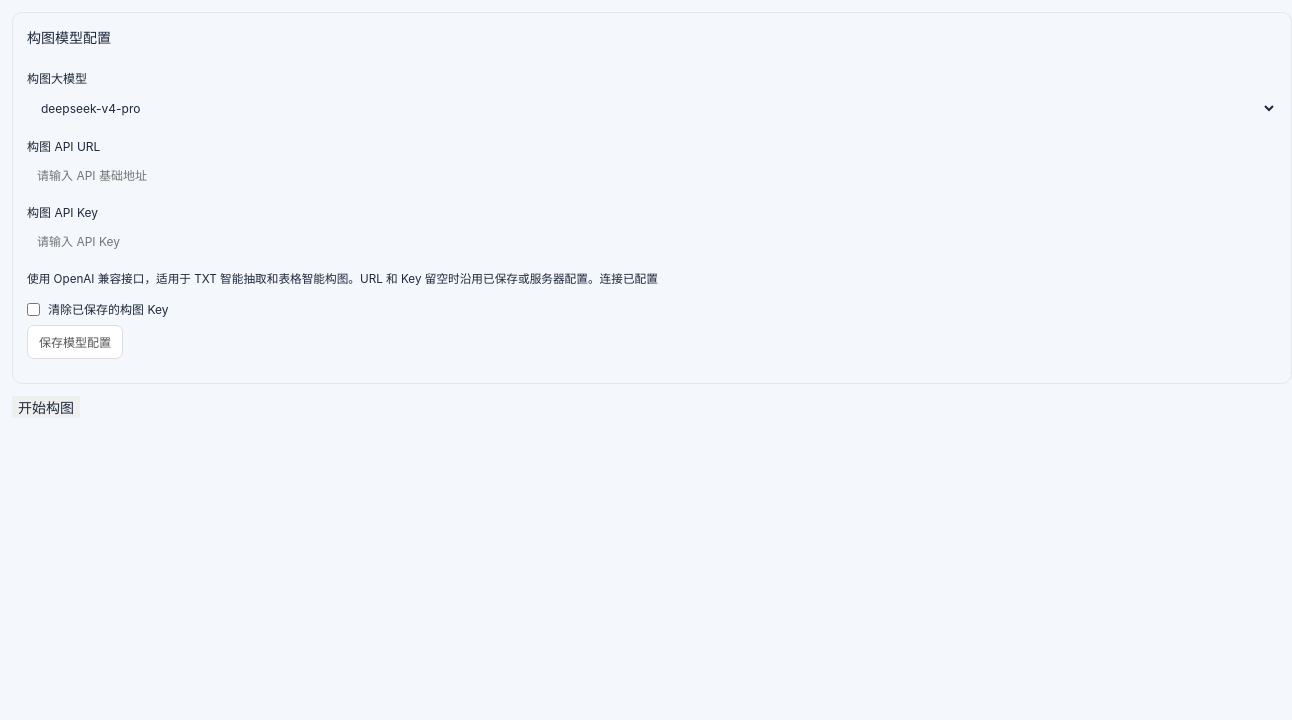
Test: saves a custom model and connection before enabling construction and resets secret fields
Check: the text "连接已配置" is shown, box [600,272,658,286]
Select "自定义模型…" in the dropdown labelled "构图大模型": (652, 108) [27,92,1277,125]
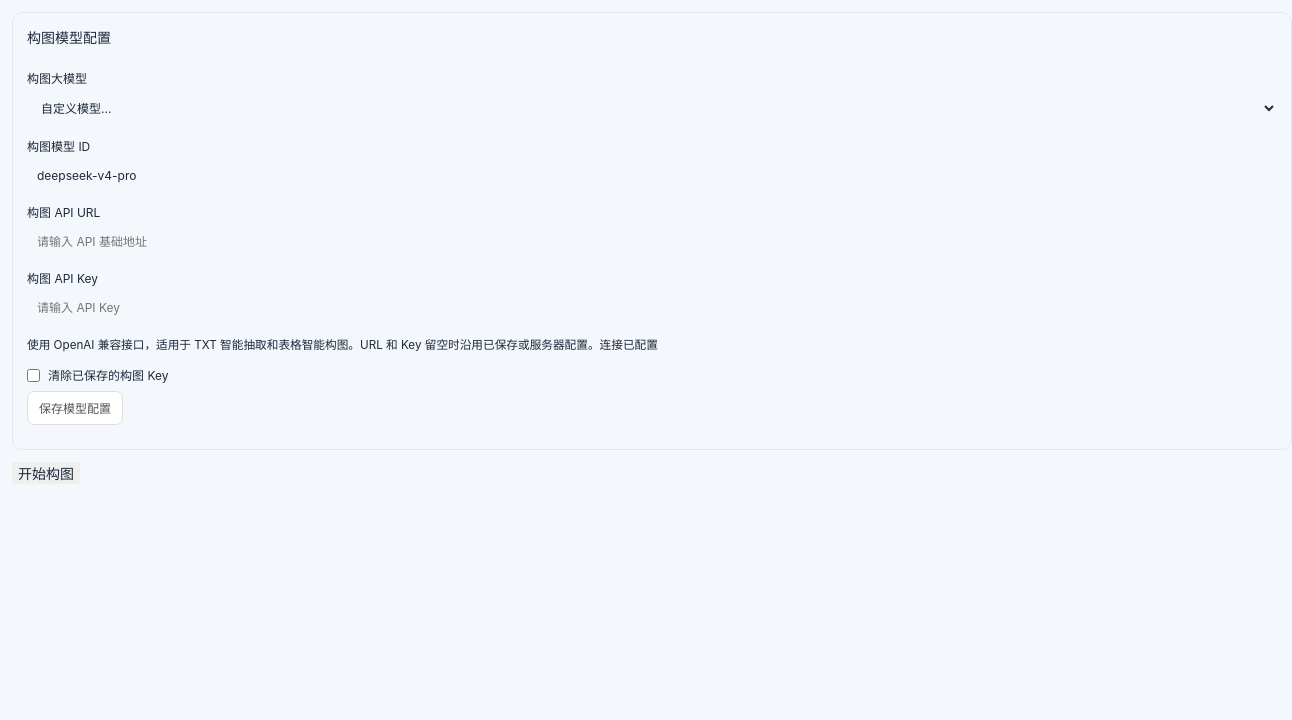
Replace the text in the field labelled "构图模型 ID" with "team/extractor": (652, 176) [27,160,1277,191]
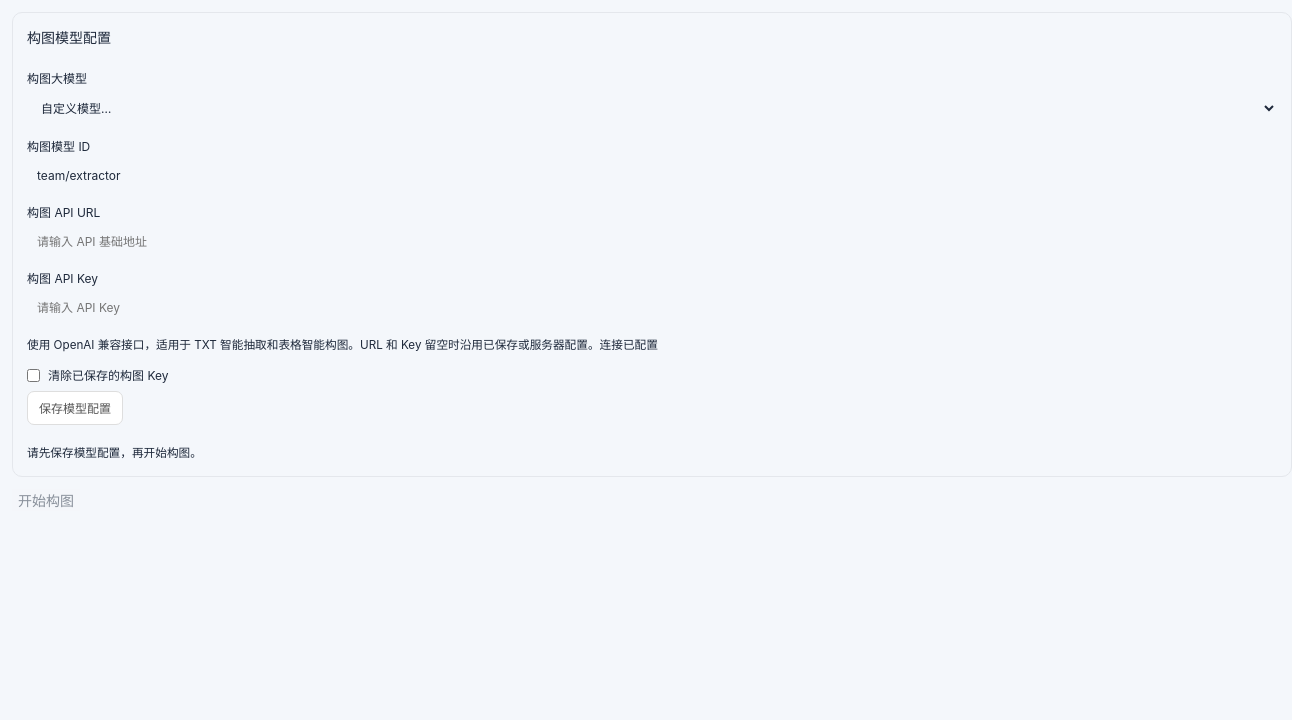
In the field labelled "构图 API URL": (652, 242) [27,226,1277,257], type "https://gateway.test/v1"
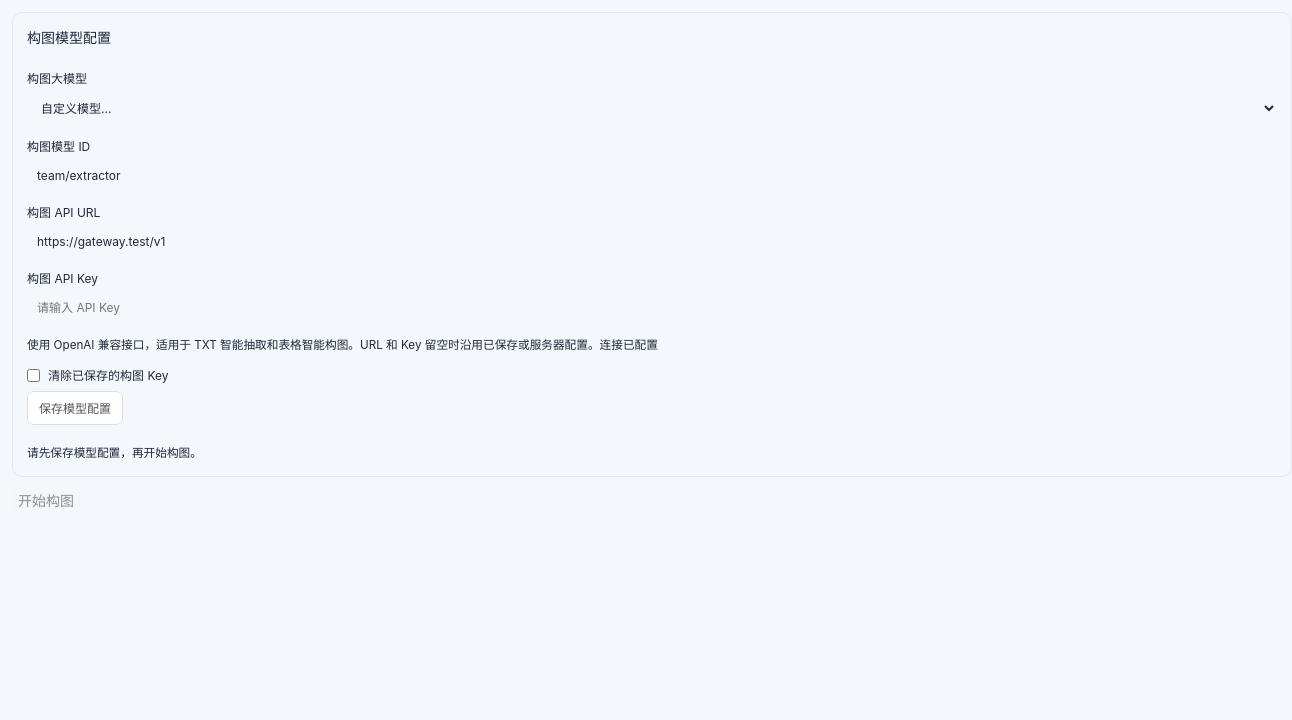
In the password field labelled "构图 API Key": (652, 308) [27,292,1277,323], type "entered-secret"
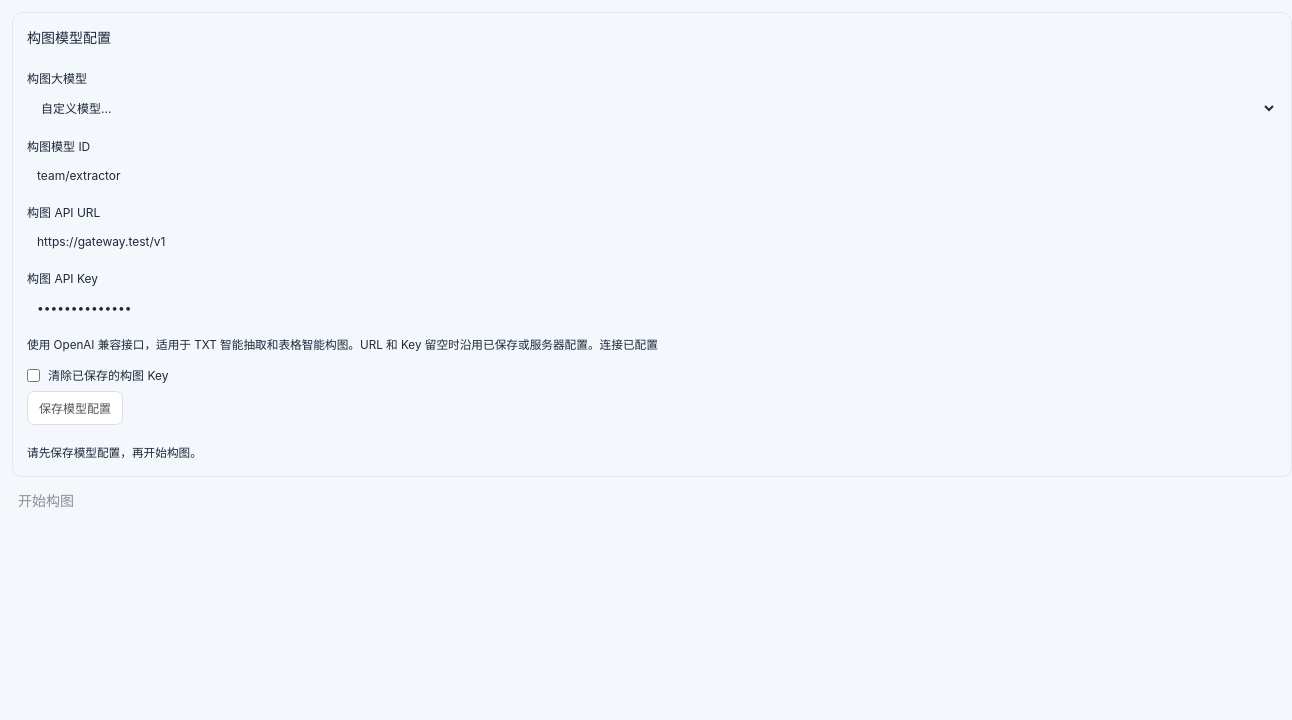
Check: the button "开始构图" is disabled, box [12,489,80,511]
Click the button "保存模型配置": (75, 408) [27,390,123,424]
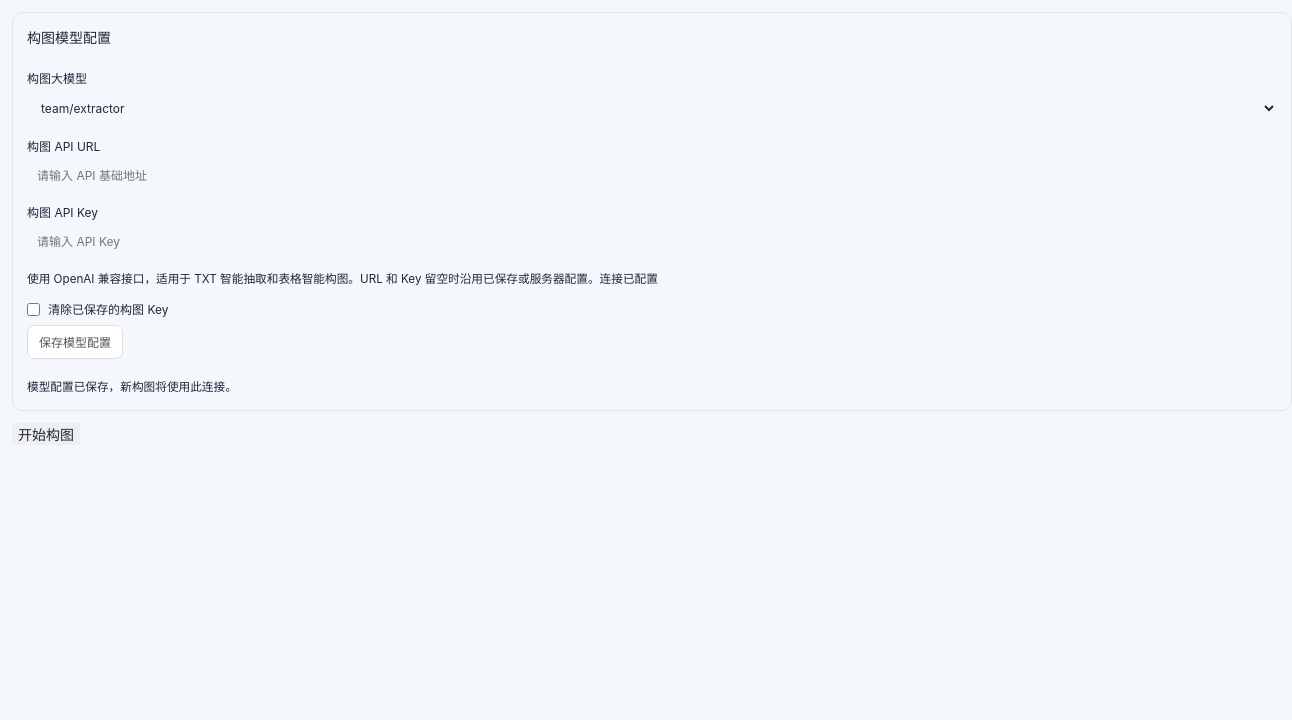
Check: the message "模型配置已保存，新构图将使用此连接。" is shown, box [27,380,237,394]
Check: the password field labelled "构图 API Key" is empty, box [27,226,1277,257]
Check: the field labelled "构图 API URL" is empty, box [27,160,1277,191]
